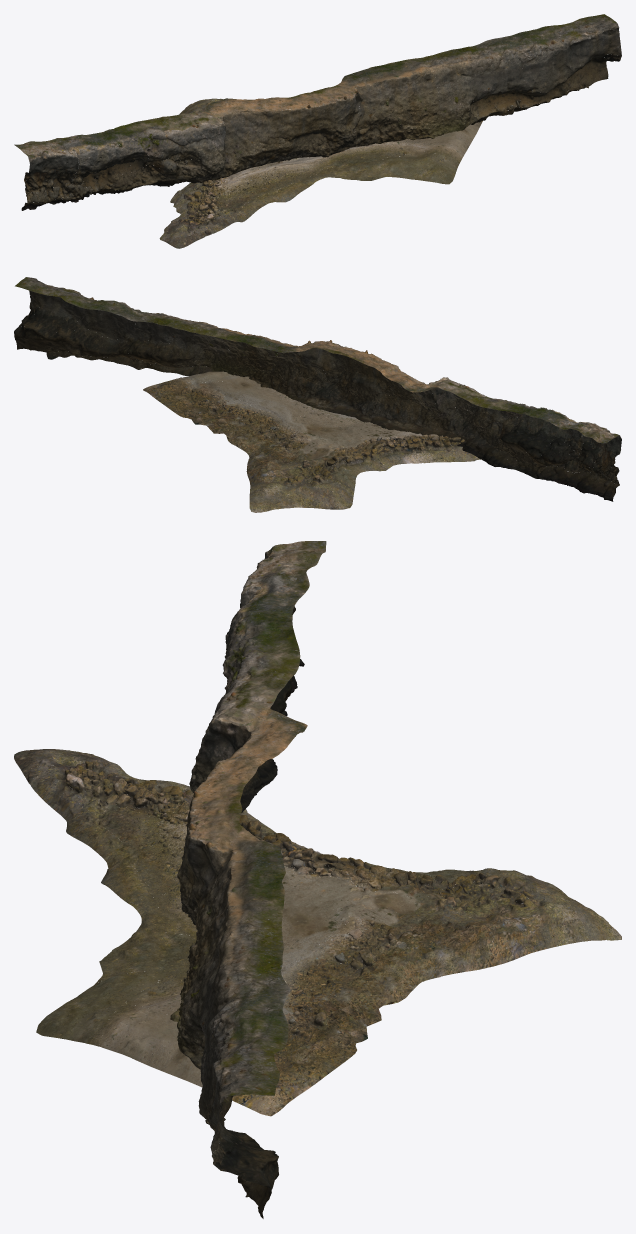
File: coastal-rocks.glb
3 views of the same model, one above another, from view 1: azimuth 30°, elevation 25°; view 2: azimuth 150°, elevation 25°; view 3: azimuth 270°, elevation 25° (orthographic). The views are drawn at different scales.
Visible parts, largest first — view 1: cliff-lod0, shore-lod0; view 2: cliff-lod0, shore-lod0; view 3: shore-lod0, cliff-lod0.
Part boxes in pixels (x1,y1,x2,y2): cliff-lod0: (14, 14, 621, 210); shore-lod0: (159, 98, 482, 248); cliff-lod0: (14, 277, 621, 501); shore-lod0: (143, 371, 502, 512); shore-lod0: (14, 749, 621, 1116); cliff-lod0: (170, 541, 326, 1218).
Size of what is drawn, in the model's own units: 91.98 by 11.66 by 42.52.
Materials: 2 (2 with a texture image).
